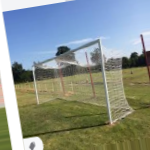goals: (31, 37, 135, 126)
